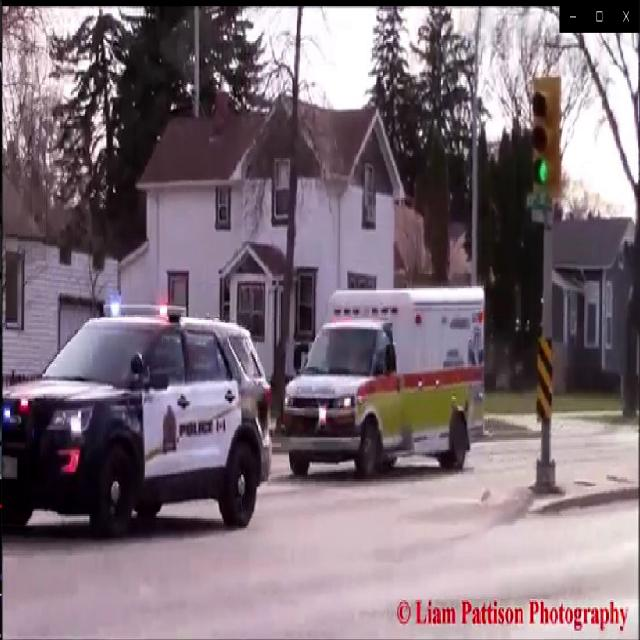emergency: (1, 295, 276, 520), (282, 285, 488, 466)
